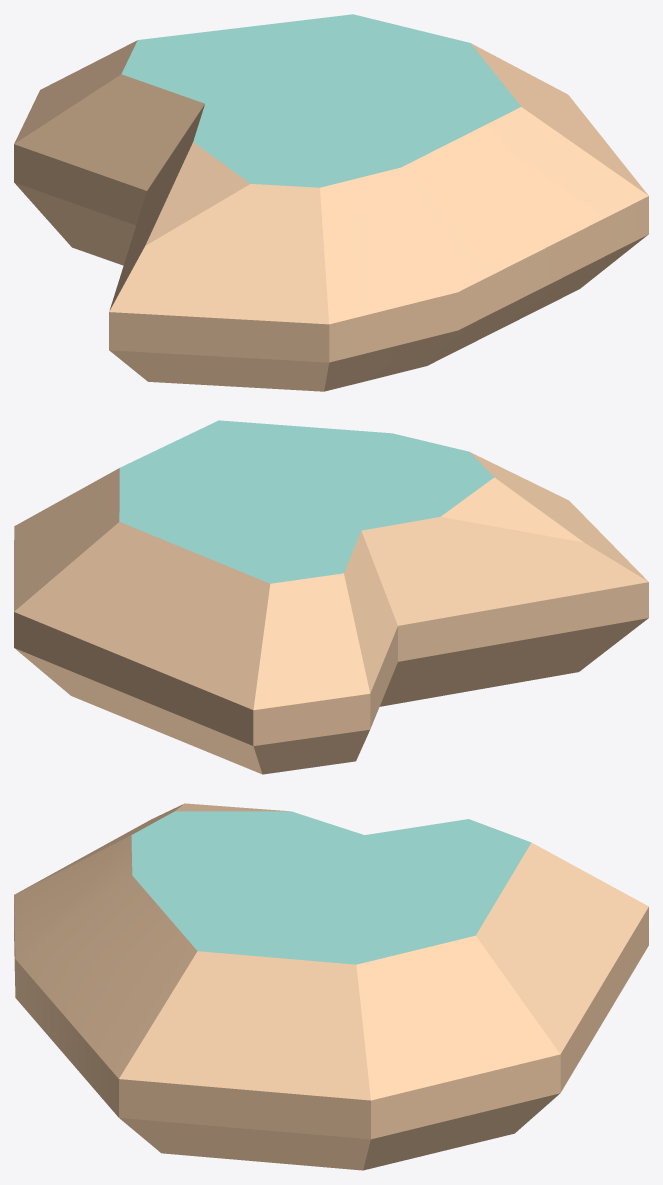
Rendered from rock_large3.glb.
The picture shows the model from 3 angles, top to bottom: view 1: azimuth 30°, elevation 25°; view 2: azimuth 150°, elevation 25°; view 3: azimuth 270°, elevation 25°; orthographic projection. The views are drawn at different scales.
Visible parts, largest first — view 1: rock_large3; view 2: rock_large3; view 3: rock_large3.
Part boxes in pixels (box(x1,y1,x2,y2)): rock_large3: box(14, 14, 648, 391); rock_large3: box(14, 420, 648, 774); rock_large3: box(14, 803, 648, 1170).
Size of the model in its own units: 1.06 by 0.3211 by 1.02.
